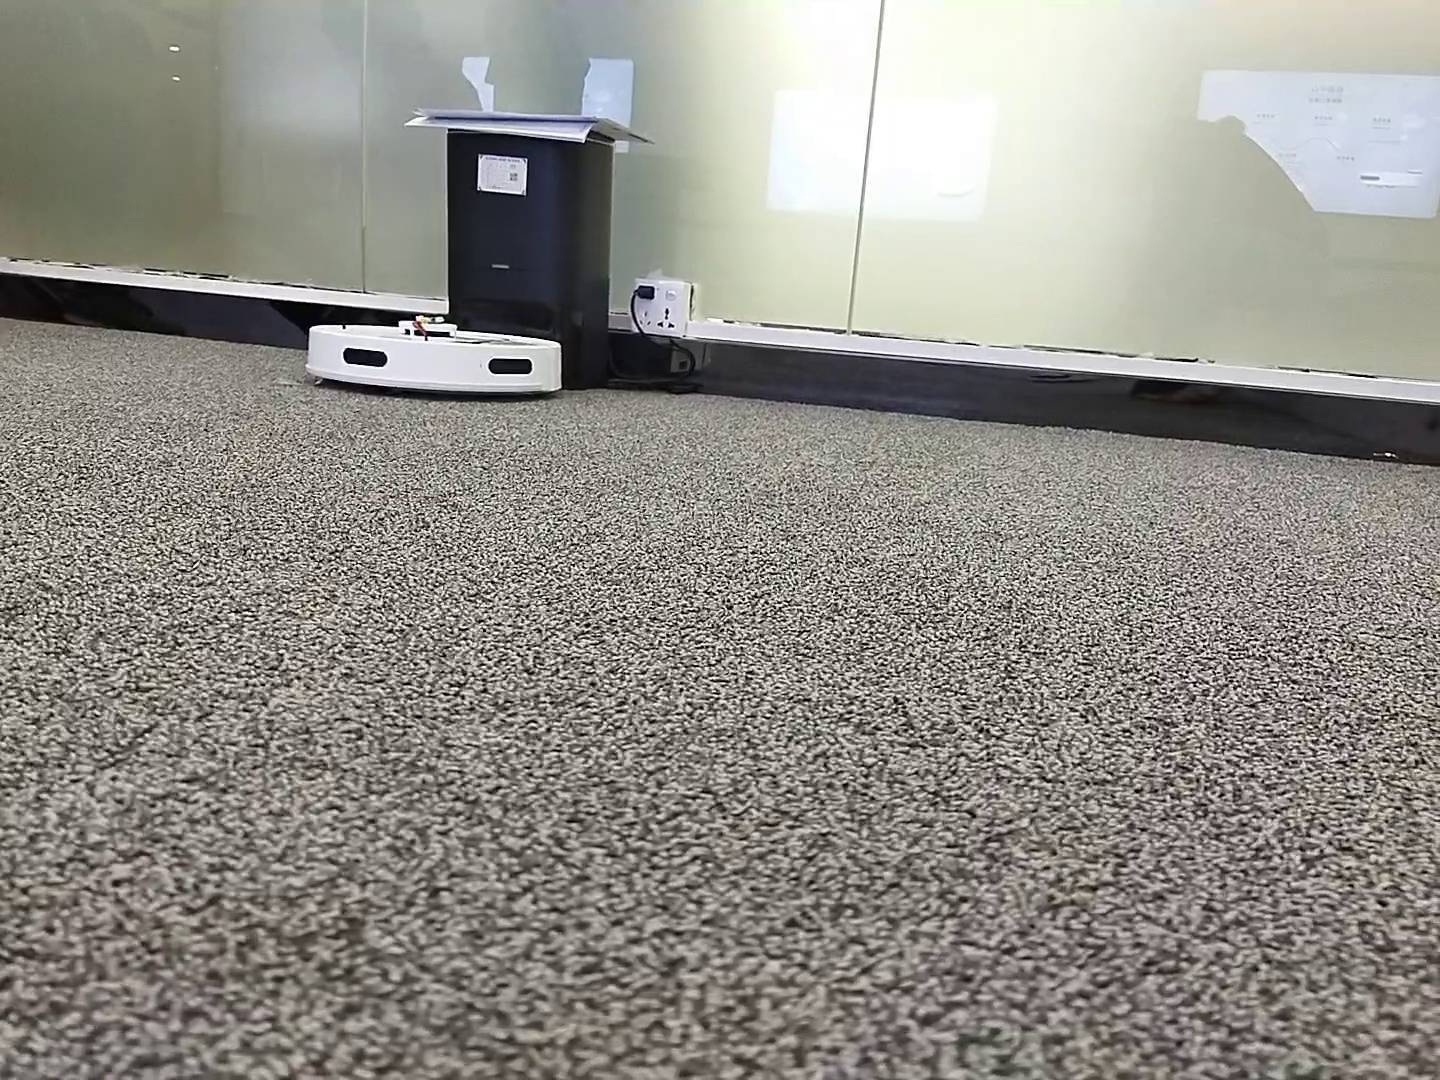dust collecting barrel: (446, 124, 615, 389)
